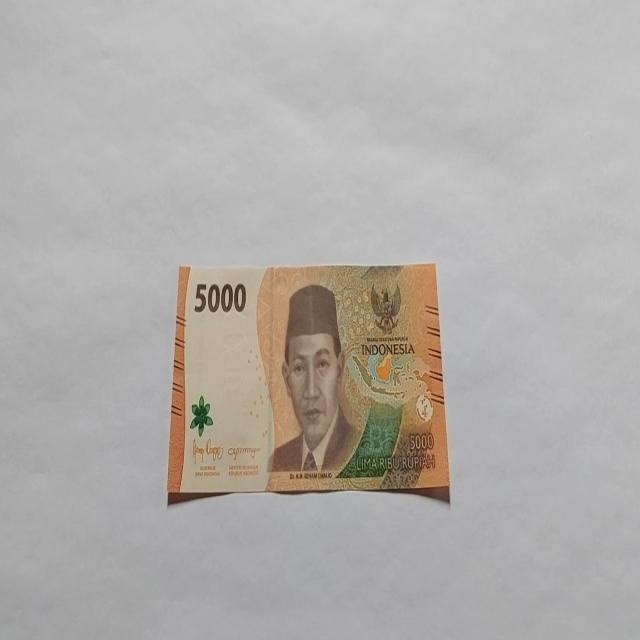lima ribu rupiah: (167, 261, 450, 506), (266, 283, 360, 478)
